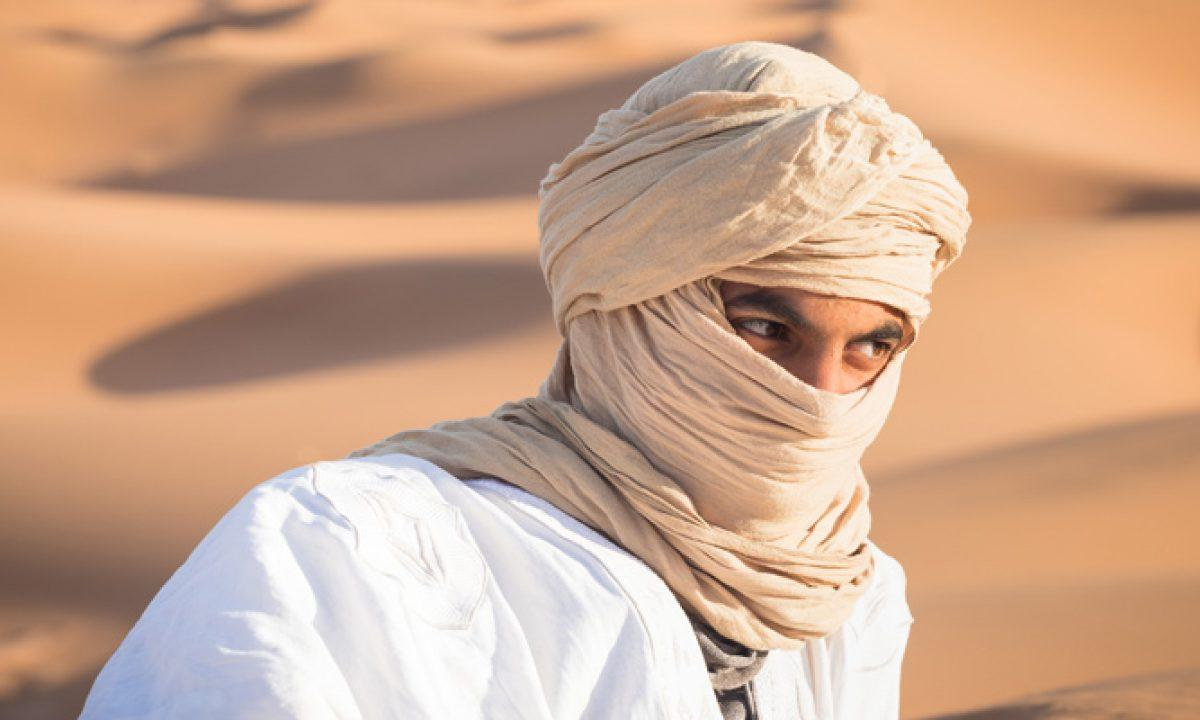scarf-kerchief: (506, 16, 1000, 650)
